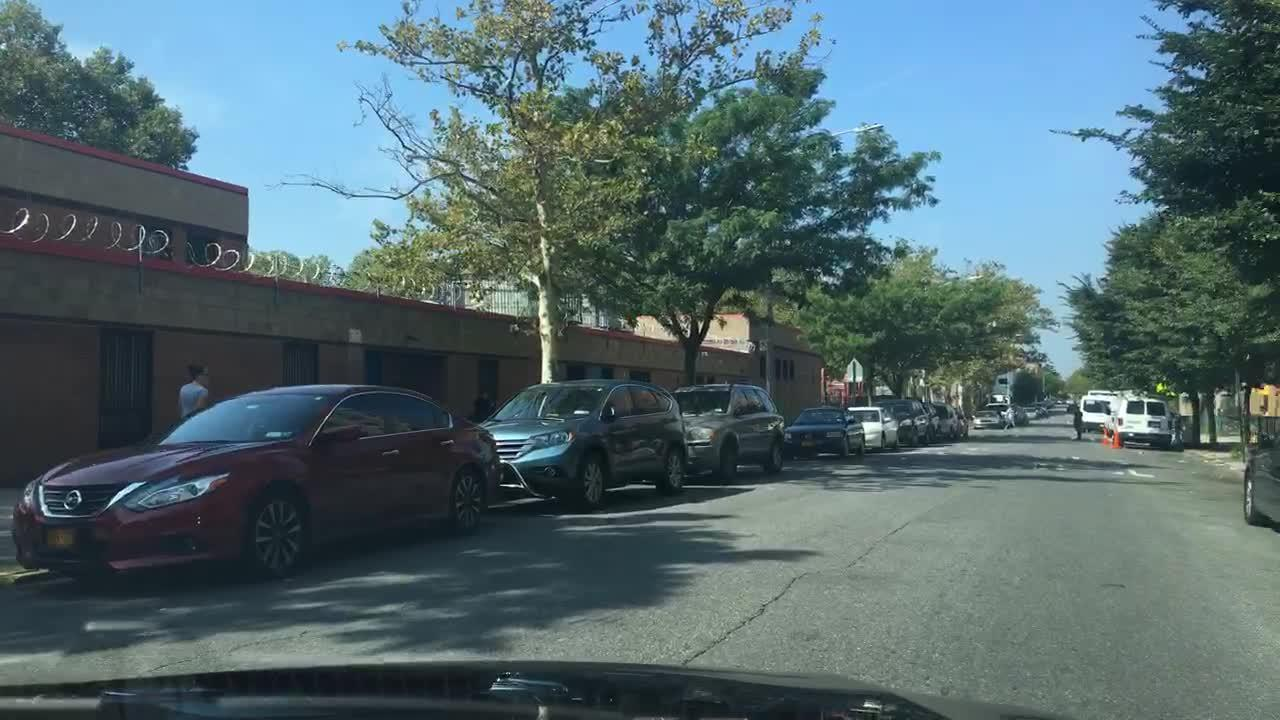Nissan: (57, 488, 84, 510)
